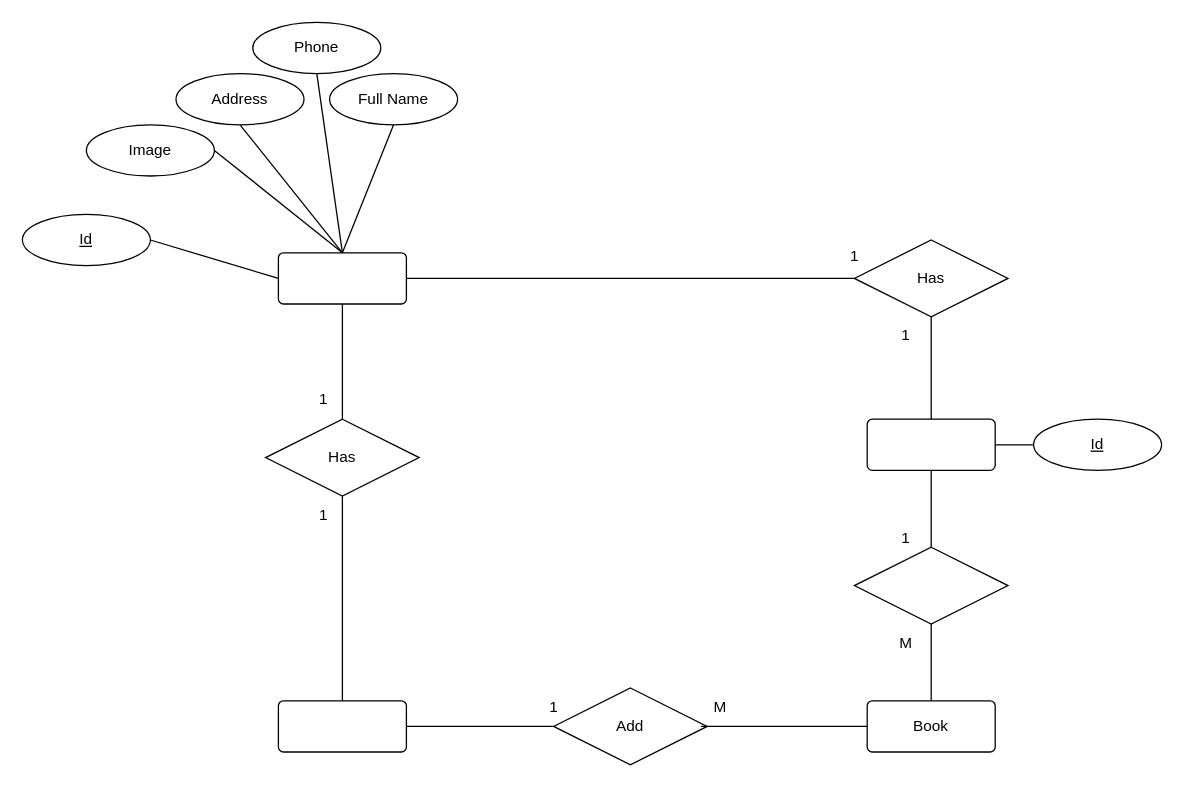
Image size: 1184x787. Some labels were removed from this diagram. The centre of each missing label's shape, as x and y in pixels:
"Cart" goes at [341,726].
"Contains" goes at [930,585].
"Library" goes at [930,444].
"User" goes at [341,278].
